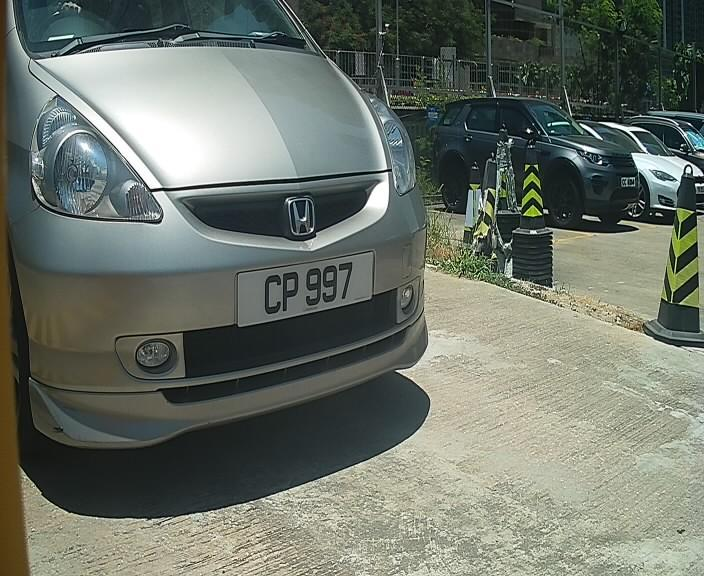privatecar: (13, 8, 447, 466)
